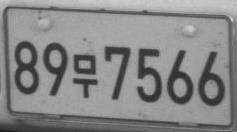5: (136, 48, 163, 103)
6: (197, 51, 225, 106), (167, 49, 194, 105)
7: (104, 45, 131, 100)
8: (12, 39, 40, 95)
9: (42, 41, 69, 96)
무: (72, 54, 98, 99)
